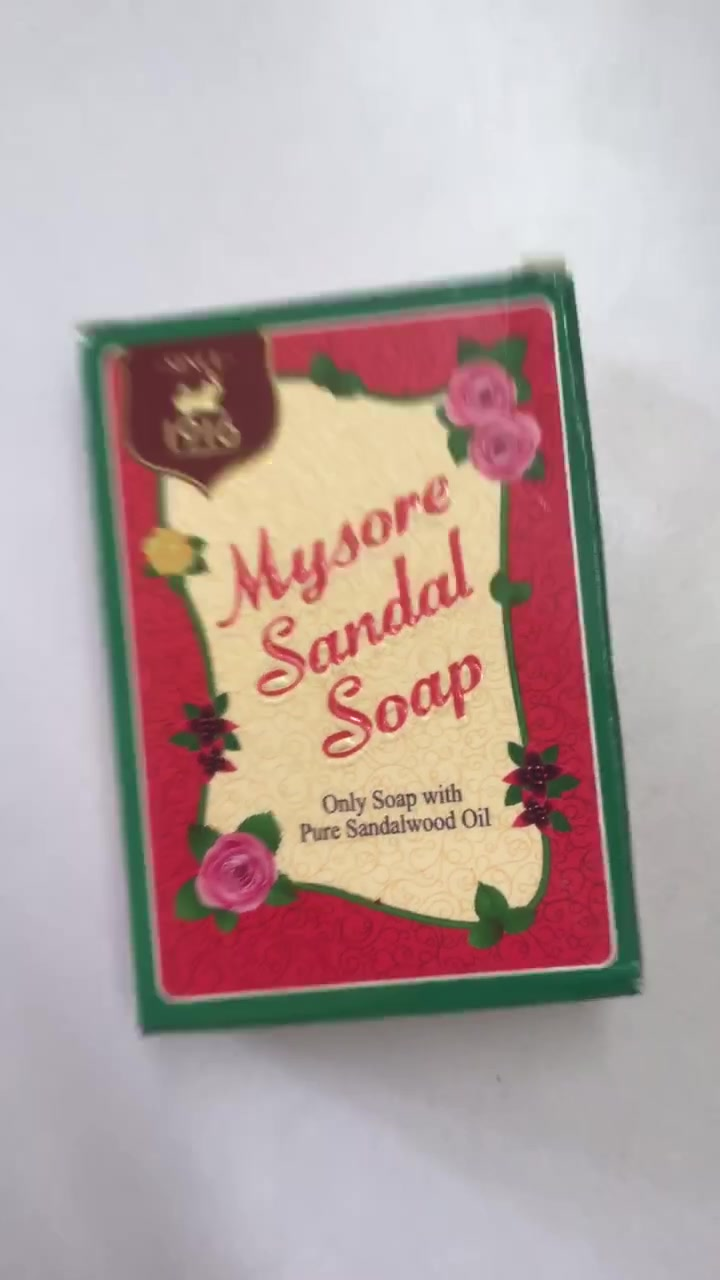mysore sandal soap: (94, 274, 645, 1046)
